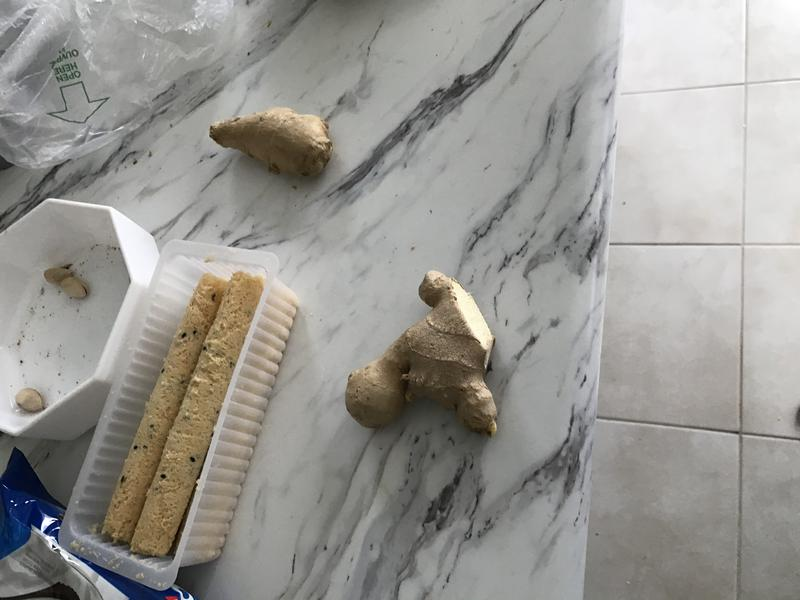ginger: (334, 265, 513, 444), (204, 105, 336, 184)
